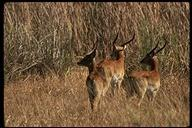antelope: (124, 39, 170, 105), (97, 31, 137, 97), (75, 46, 110, 112)
grass: (7, 81, 83, 124)
